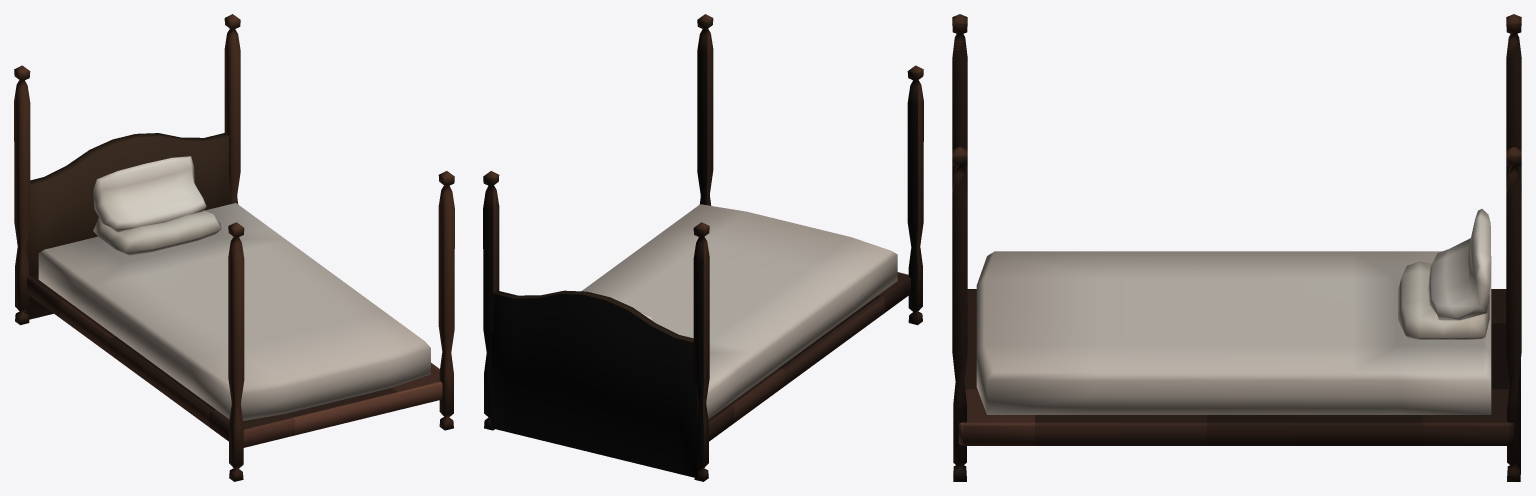
3 renders of one model, left to right at view 1: azimuth 30°, elevation 25°; view 2: azimuth 150°, elevation 25°; view 3: azimuth 270°, elevation 25°, orthographic. The views are drawn at different scales.
Visible parts, largest first — view 1: base.013; view 2: base.013; view 3: base.013.
Boxes of the visible parts, x1,y1,x2,y2 form: base.013: (14, 14, 454, 481); base.013: (483, 14, 923, 481); base.013: (952, 14, 1521, 481).
Bounding box in the file's own units: 0.2939 × 0.322 × 0.5.
